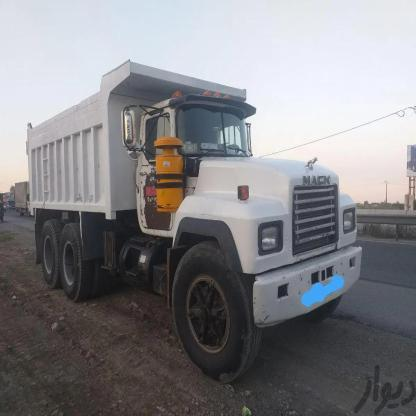Truck: (14, 53, 366, 391)
